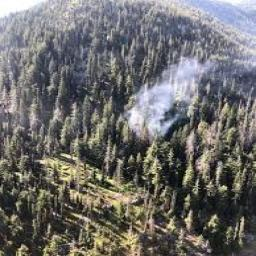Low smoke: (115, 51, 219, 137)
